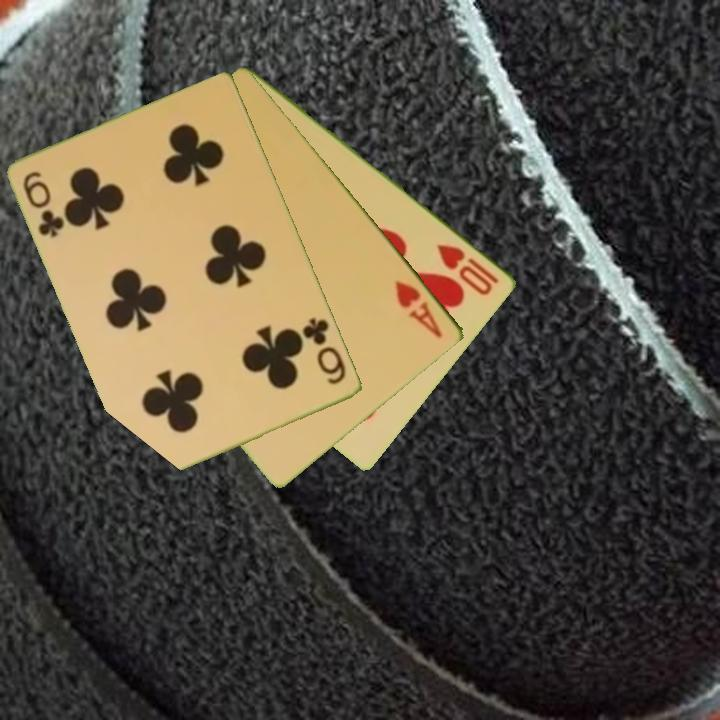10h: (434, 240, 503, 299)
6c: (299, 314, 350, 388), (20, 168, 68, 241)
Ah: (391, 277, 446, 341)
